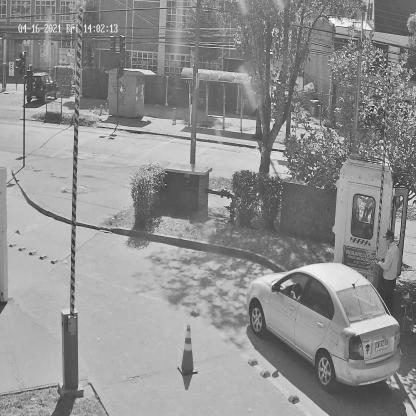Patente: (375, 335, 389, 354)
